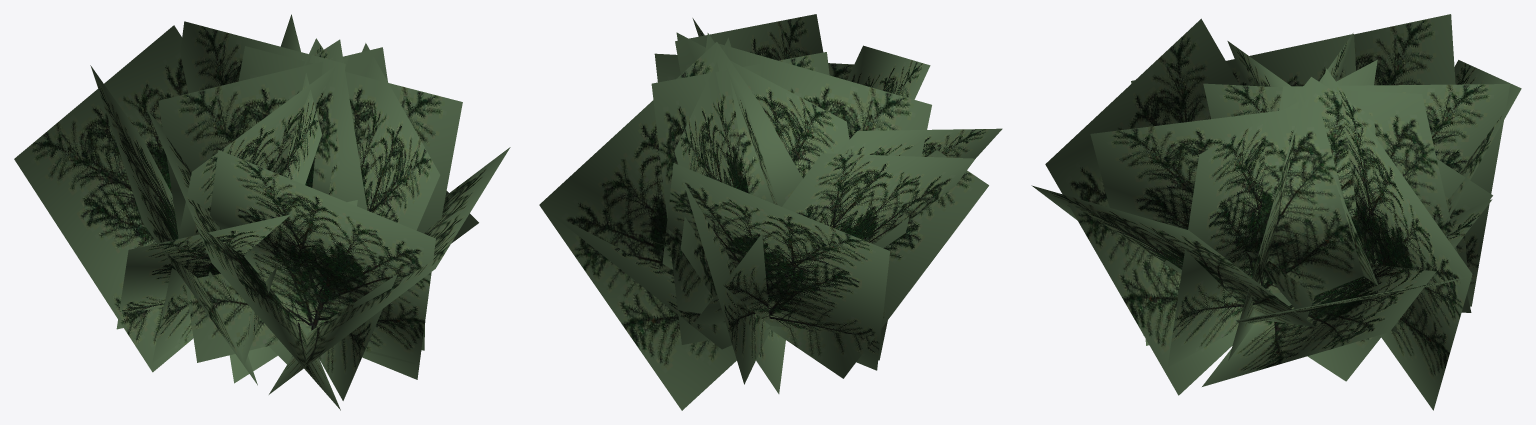
Rendered from shrb_pinebush_med_l0.fbx.
3 renders of one model, left to right at view 1: azimuth 30°, elevation 25°; view 2: azimuth 150°, elevation 25°; view 3: azimuth 270°, elevation 25°, orthographic. The views are drawn at different scales.
Visible parts, largest first — view 1: mesh_node; view 2: mesh_node; view 3: mesh_node.
Boxes of the visible parts, left/top/right/bottom form: mesh_node: left=14, top=14, right=510, bottom=410; mesh_node: left=539, top=14, right=1002, bottom=410; mesh_node: left=1031, top=14, right=1521, bottom=410.
Bounding box in the file's own units: 2.18 × 1.83 × 2.32.
1 material, 1 textured.
